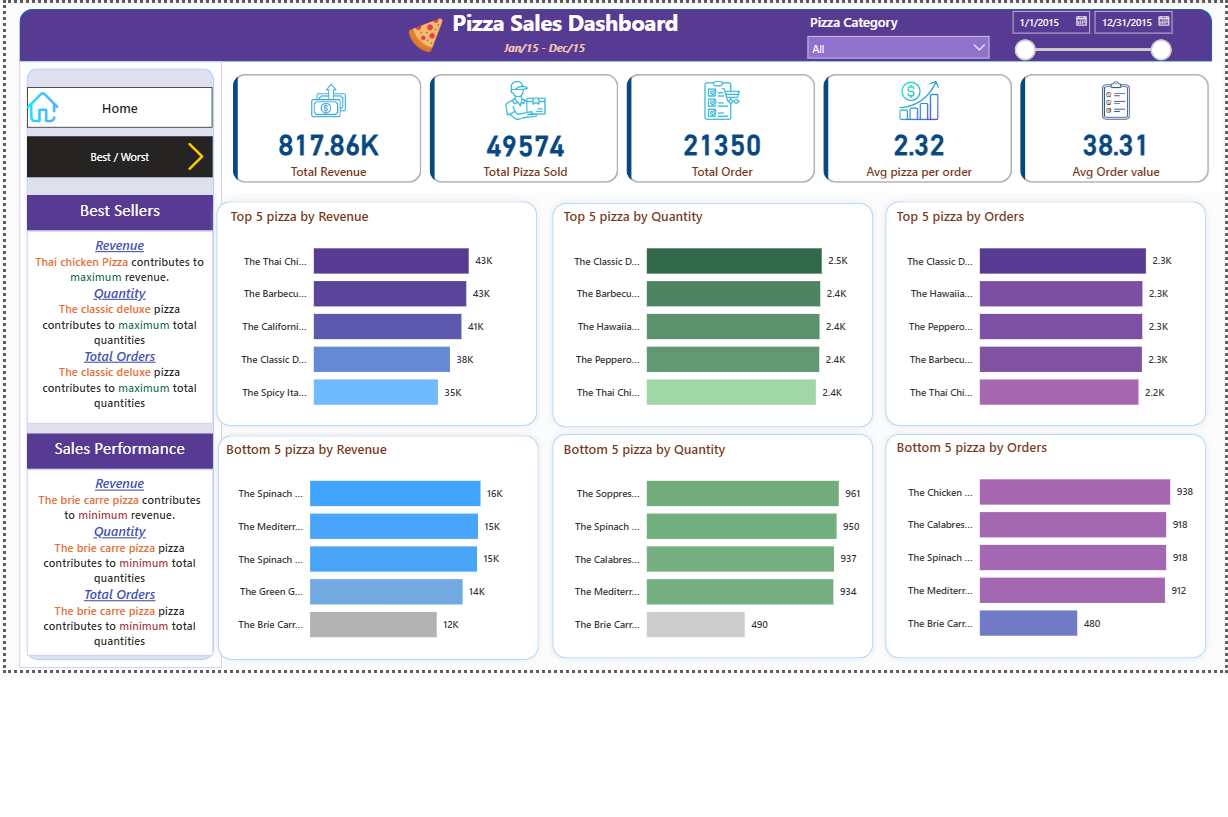

The dashboard page shown, as its layout file describes it:
{"tool":"powerbi","page":{"name":"Best / Worst","canvas":[1500,820],"ordinal":1},"visuals":[{"type":"cardVisual","fields":{"Data":["pizza_sales.Total Revenue","pizza_sales.Total Pizza Sold","pizza_sales.Total Order","pizza_sales.Avg pizza per order","pizza_sales.Avg Order value"]},"box":[265,73.3,1230,160],"z":0},{"type":"shape","box":[16.6,7.4,1466.1,64.5],"z":1000},{"type":"textbox","box":[543.3,0,303.3,56.7],"z":2000},{"type":"textbox","box":[606.7,40,111.7,33.3],"z":3000},{"type":"image","box":[493.3,15,43.3,50],"z":4000},{"type":"shape","box":[16.7,71.7,248.3,745],"z":5000},{"type":"textbox","box":[25,236.7,228.3,43.3],"z":6000},{"type":"textbox","box":[25,280,228.3,236.7],"z":7000},{"type":"textbox","box":[25,530,228.3,43.3],"z":8000},{"type":"textbox","box":[25,573.3,228.3,228.3],"z":9000},{"type":"slicer","fields":{"Values":["pizza_sales.pizza_category"]},"box":[975,6.7,243.3,71.7],"z":10000},{"type":"slicer","fields":{"Values":["pizza_sales.order_date"]},"box":[1225,0,216.7,78.3],"z":11000},{"type":"shape","box":[253.3,523.3,410,291.7],"z":12000},{"type":"shape","box":[663.3,521.7,410,291.7],"z":13000},{"type":"shape","box":[1073.3,521.7,410,291.7],"z":14000},{"type":"shape","box":[663.3,238.3,410,291.7],"z":15000},{"type":"shape","box":[251.7,236.7,410,291.7],"z":16000},{"type":"shape","box":[1073.3,236.7,410,291.7],"z":17000},{"type":"barChart","title":"Top 5 pizza by Revenue","fields":{"Category":["pizza_sales.pizza_name"],"Y":["pizza_sales.Total Revenue"]},"box":[271.7,251.7,375,265],"z":18000},{"type":"barChart","title":"Bottom 5 pizza by Revenue","fields":{"Category":["pizza_sales.pizza_name"],"Y":["pizza_sales.Total Revenue"]},"box":[265,536.7,381.7,265],"z":19000},{"type":"barChart","title":"Top 5 pizza by Quantity","fields":{"Category":["pizza_sales.pizza_name"],"Y":["pizza_sales.Total Pizza Sold"]},"box":[680,251.7,375,265],"z":20000},{"type":"barChart","title":"Bottom 5 pizza by Quantity","fields":{"Category":["pizza_sales.pizza_name"],"Y":["pizza_sales.Total Pizza Sold"]},"box":[680,536.7,375,265],"z":21000},{"type":"barChart","title":"Top 5 pizza by Orders","fields":{"Category":["pizza_sales.pizza_name"],"Y":["pizza_sales.Total Order"]},"box":[1090,251.7,375,265],"z":22000},{"type":"barChart","title":"Bottom 5 pizza by Orders","fields":{"Category":["pizza_sales.pizza_name"],"Y":["pizza_sales.Total Order"]},"box":[1090,535,375,265],"z":23000},{"type":"pageNavigator","box":[25,165,228.3,50],"z":23001},{"type":"pageNavigator","box":[25,103.3,228.3,50],"z":23002},{"type":"image","box":[216.7,166.7,35,45],"z":23003},{"type":"image","box":[25,101.7,38.3,53.3],"z":23004}]}

Visuals, with their boxes on the page's 1500x820 design canvas (x1, y1, x2, y2). These are canvas units, not pixel positions in the 1228x817 screenshot, which may show the page scaled, cropped or inside an application window:
cardVisual - pizza_sales.Total Revenue x pizza_sales.Total Pizza Sold: rect(265, 73, 1495, 233)
shape: rect(17, 7, 1483, 72)
textbox: rect(543, 0, 847, 57)
textbox: rect(607, 40, 718, 73)
image: rect(493, 15, 537, 65)
shape: rect(17, 72, 265, 817)
textbox: rect(25, 237, 253, 280)
textbox: rect(25, 280, 253, 517)
textbox: rect(25, 530, 253, 573)
textbox: rect(25, 573, 253, 802)
slicer - pizza_sales.pizza_category: rect(975, 7, 1218, 78)
slicer - pizza_sales.order_date: rect(1225, 0, 1442, 78)
shape: rect(253, 523, 663, 815)
shape: rect(663, 522, 1073, 813)
shape: rect(1073, 522, 1483, 813)
shape: rect(663, 238, 1073, 530)
shape: rect(252, 237, 662, 528)
shape: rect(1073, 237, 1483, 528)
"Top 5 pizza by Revenue" barChart: rect(272, 252, 647, 517)
"Bottom 5 pizza by Revenue" barChart: rect(265, 537, 647, 802)
"Top 5 pizza by Quantity" barChart: rect(680, 252, 1055, 517)
"Bottom 5 pizza by Quantity" barChart: rect(680, 537, 1055, 802)
"Top 5 pizza by Orders" barChart: rect(1090, 252, 1465, 517)
"Bottom 5 pizza by Orders" barChart: rect(1090, 535, 1465, 800)
pageNavigator: rect(25, 165, 253, 215)
pageNavigator: rect(25, 103, 253, 153)
image: rect(217, 167, 252, 212)
image: rect(25, 102, 63, 155)
